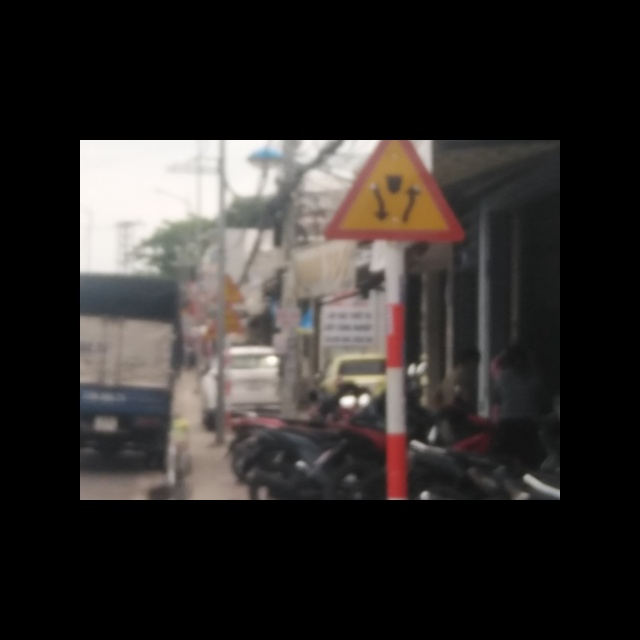Đường đôi: (321, 142, 463, 243)
